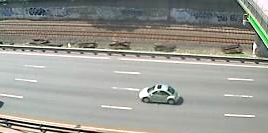car: (137, 82, 184, 107)
